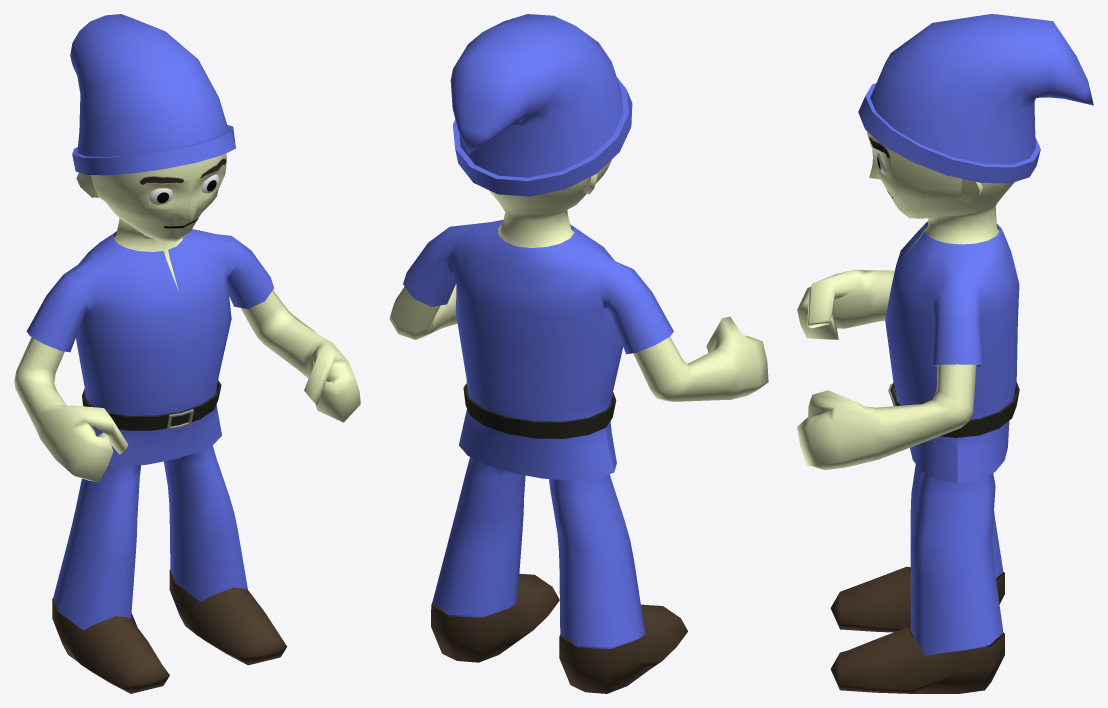
The model's file is player_2.fbx.
The picture shows the model from 3 angles, left to right: view 1: azimuth 30°, elevation 25°; view 2: azimuth 150°, elevation 25°; view 3: azimuth 270°, elevation 25°; orthographic projection. The views are drawn at different scales.
Parts seen in each view (by area): view 1: tops, body, cap, bottom, shoes, beit, eye; view 2: tops, cap, bottom, body, shoes, beit; view 3: cap, tops, body, bottom, shoes, beit.
Part boxes in pixels (x1,y1,x2,y2): tops: (26, 229, 273, 466); body: (14, 153, 360, 482); cap: (70, 14, 235, 175); bottom: (53, 445, 247, 630); shoes: (52, 570, 287, 693); beit: (82, 380, 221, 430); eye: (149, 174, 218, 204); tops: (403, 219, 673, 480); cap: (450, 14, 632, 196); bottom: (432, 457, 645, 647); body: (389, 159, 768, 648); shoes: (431, 573, 687, 693); beit: (463, 383, 616, 438); cap: (858, 14, 1093, 183); tops: (885, 221, 1019, 483); body: (797, 131, 1014, 652); bottom: (910, 464, 1003, 655); shoes: (830, 566, 1004, 693); beit: (888, 382, 1019, 437).
Bounding box in the file's own units: 75.95 × 144 × 61.54.
Materials: 1 (1 with a texture image).
